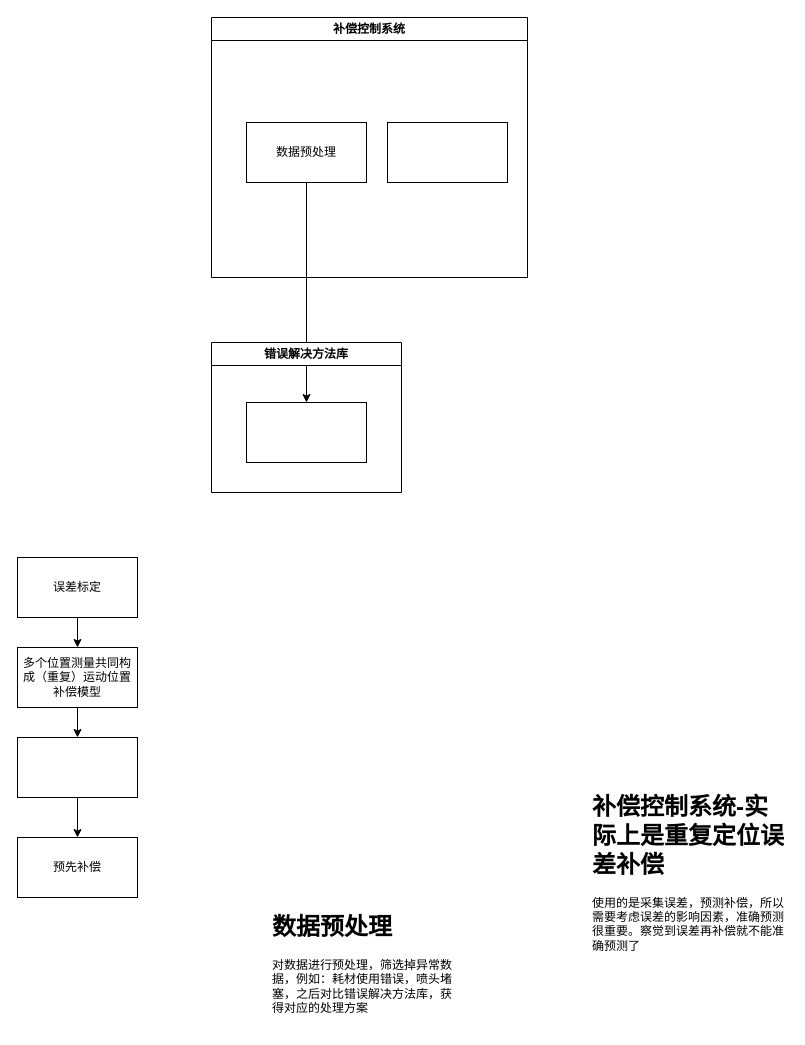
Some shapes in this 805 by 1045 pixel diagram are drawn without their labels. Each missing label, with the box of its shape:
特征提取: (386, 122, 508, 182)
调用补偿算法: (16, 736, 138, 798)
错误处理方案: (246, 402, 366, 462)
